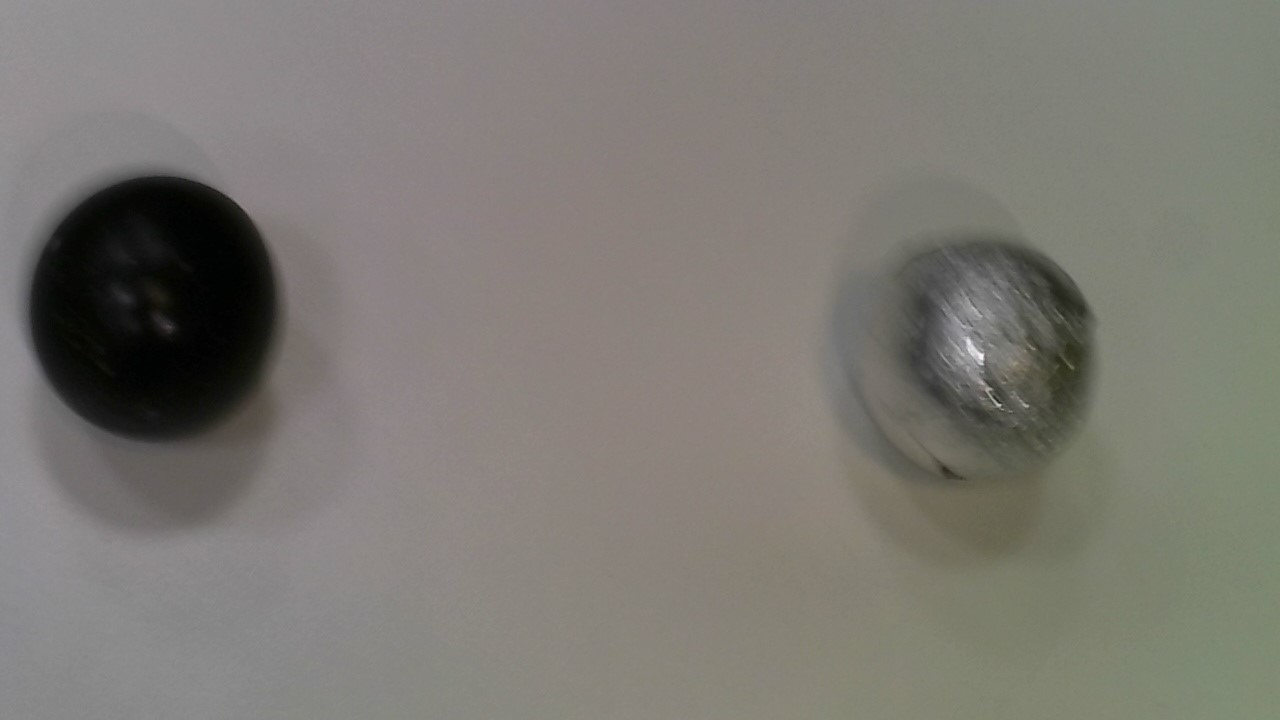black_ball: (14, 157, 295, 453)
silver_ball: (843, 232, 1113, 495)
